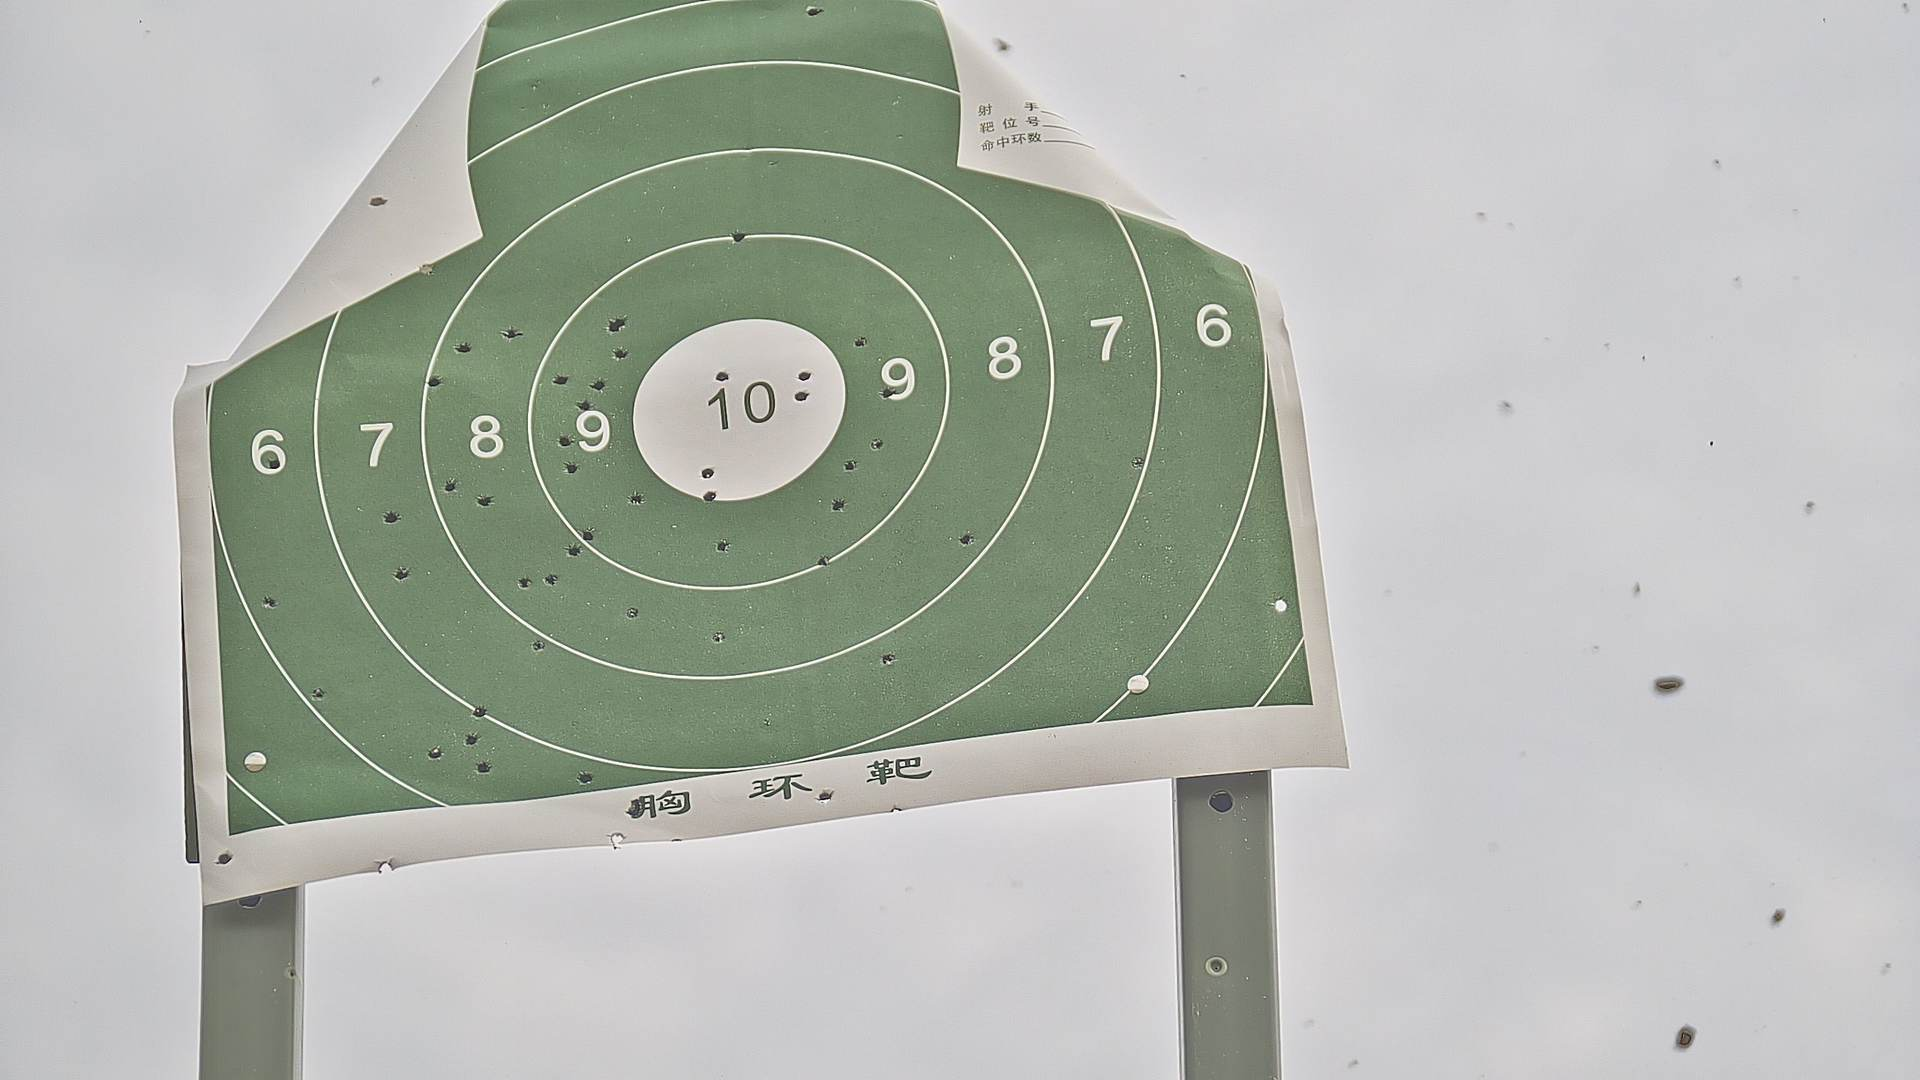hole: (626, 798, 642, 818), (816, 789, 832, 804), (1273, 596, 1287, 613), (578, 770, 593, 785), (843, 458, 860, 471), (476, 495, 495, 506), (831, 498, 847, 512), (629, 491, 642, 506), (392, 568, 407, 582), (516, 576, 531, 589), (1131, 458, 1146, 471), (870, 436, 885, 450), (881, 651, 895, 665), (716, 538, 729, 553), (566, 543, 580, 556), (262, 595, 276, 609), (731, 231, 746, 243), (712, 630, 725, 644), (592, 378, 605, 392), (855, 335, 866, 349), (582, 529, 593, 543), (464, 735, 479, 746), (385, 512, 400, 524), (553, 375, 568, 385), (808, 7, 822, 18), (578, 400, 591, 411), (545, 574, 558, 585), (530, 638, 542, 651), (473, 707, 488, 717), (476, 764, 492, 773), (818, 553, 829, 564), (607, 320, 618, 332), (626, 607, 638, 618), (458, 342, 469, 353), (795, 390, 808, 401), (566, 463, 579, 473), (313, 687, 323, 700), (444, 479, 455, 492), (796, 371, 811, 380), (960, 533, 971, 545), (615, 316, 626, 327), (615, 348, 626, 359), (559, 435, 571, 446), (430, 746, 440, 758), (269, 458, 280, 469), (703, 492, 716, 501), (429, 376, 439, 386), (505, 328, 516, 339), (716, 371, 729, 378), (703, 468, 713, 477), (882, 388, 891, 397)
kernel: (733, 405, 741, 410)
target: (208, 1, 1315, 837)
ten: (630, 316, 843, 504)
